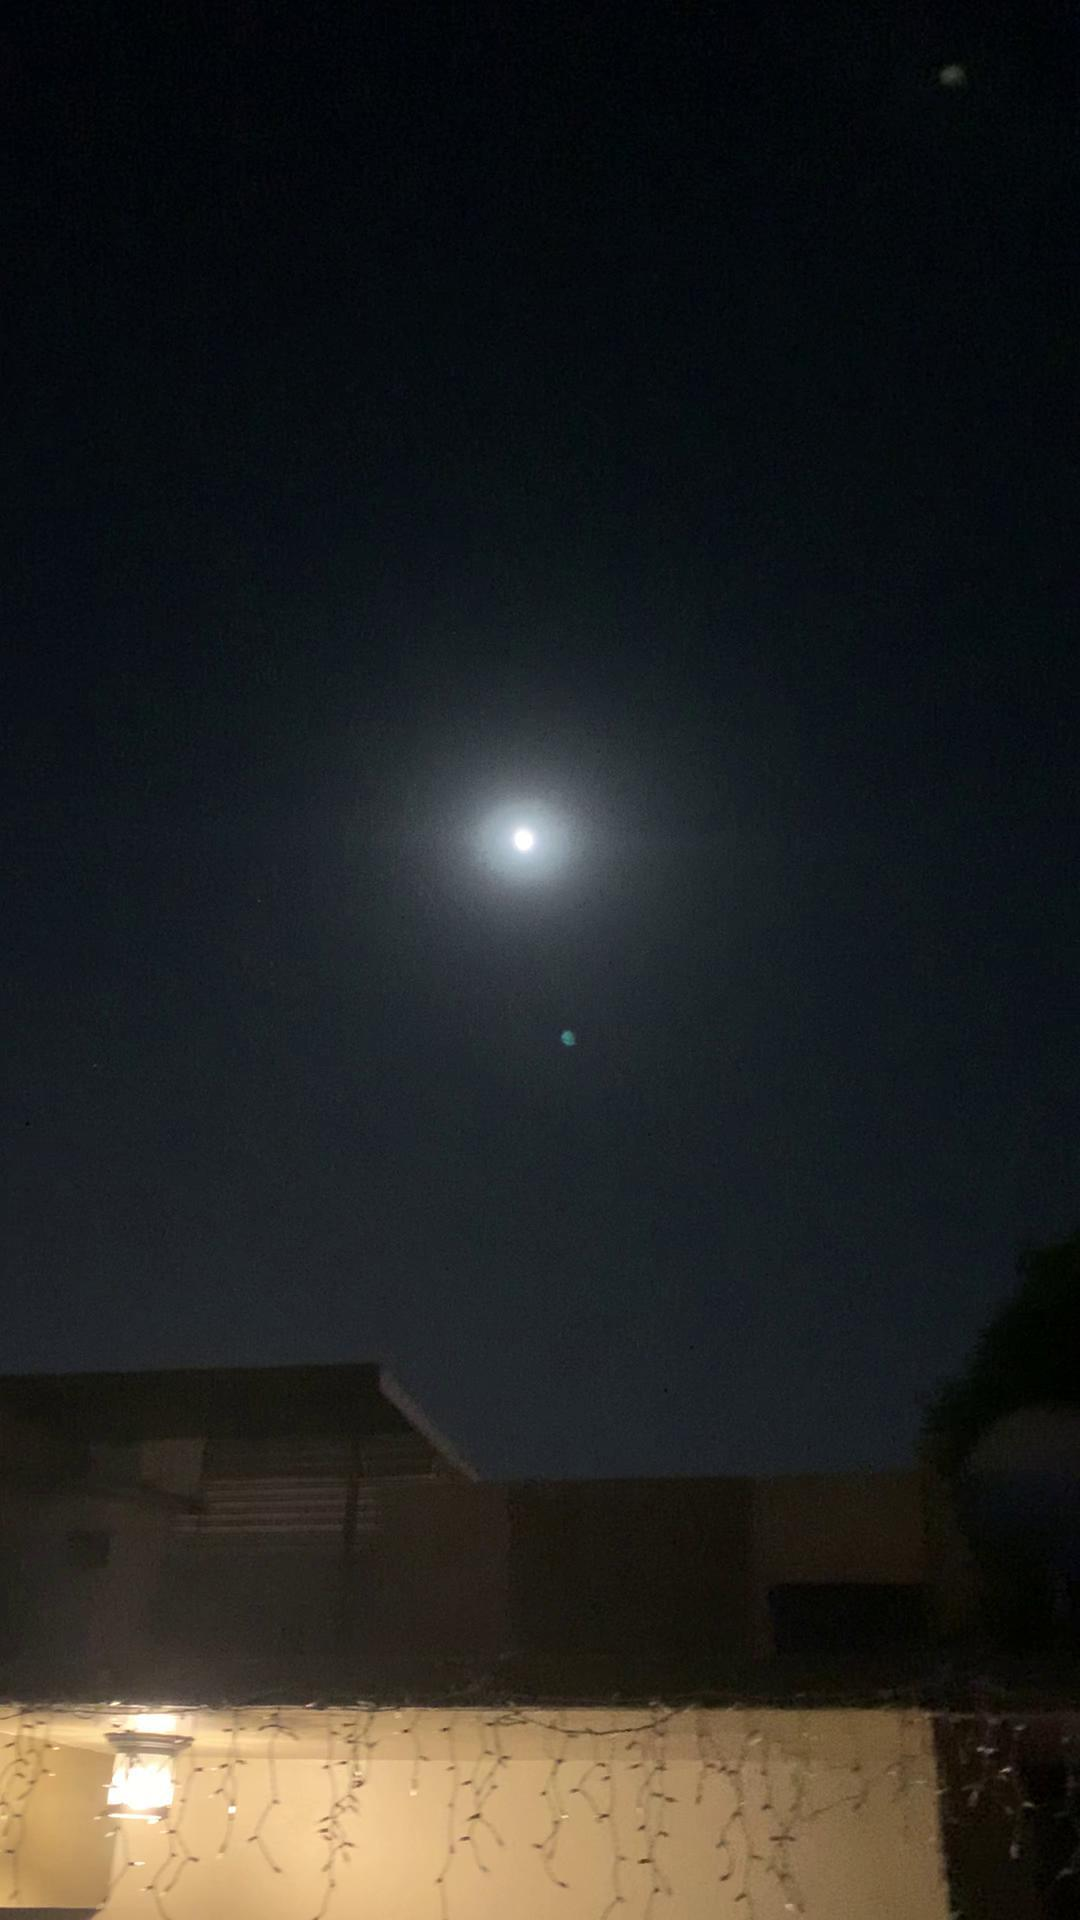moon: (485, 799, 572, 894)
